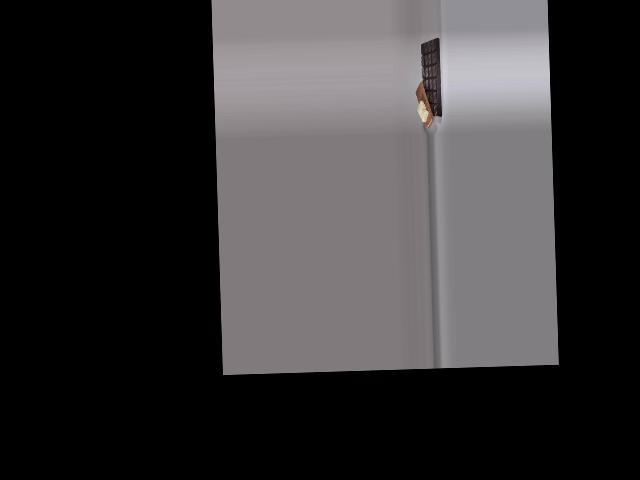chocolate: (417, 37, 444, 122)
